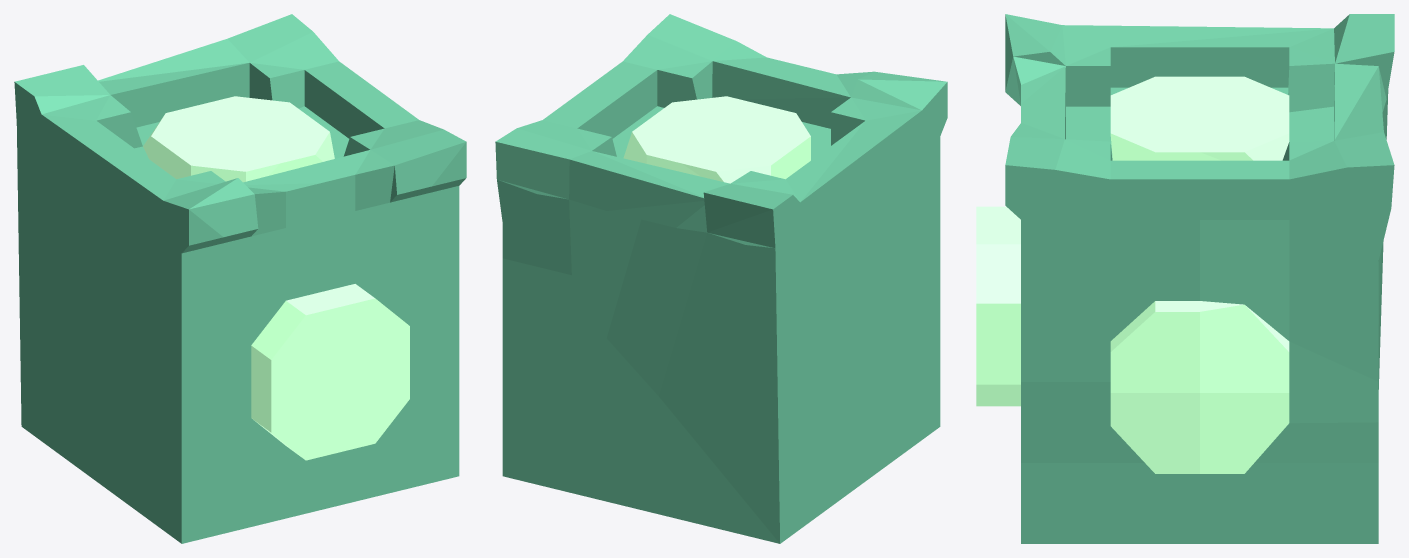
The picture shows the model from 3 angles, left to right: view 1: azimuth 30°, elevation 25°; view 2: azimuth 150°, elevation 25°; view 3: azimuth 270°, elevation 25°; orthographic projection. The views are drawn at different scales.
Visible parts, largest first — view 1: Cube.013; view 2: Cube.013; view 3: Cube.013.
Part boxes in pixels (left/top/right/bottom): Cube.013: left=14, top=14, right=466, bottom=543; Cube.013: left=495, top=14, right=947, bottom=543; Cube.013: left=976, top=14, right=1394, bottom=543.
Bounding box in the file's own units: 370 × 404 × 404.
